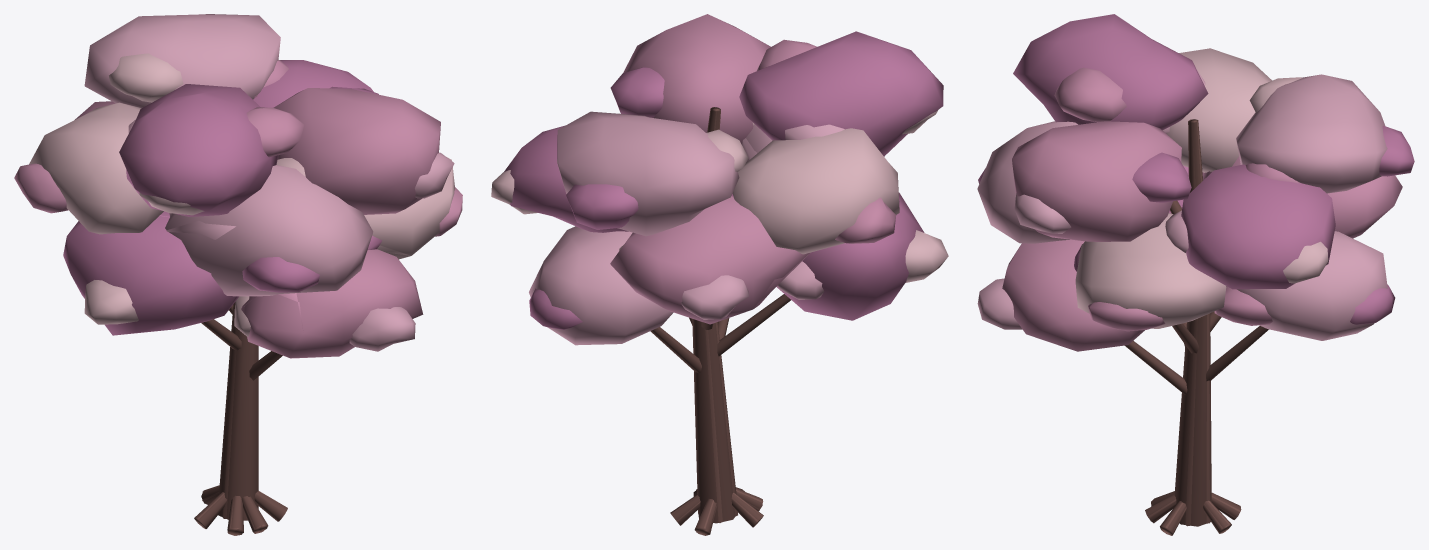
File: cherry.glb
3 views of the same model, side by side, from view 1: azimuth 30°, elevation 25°; view 2: azimuth 150°, elevation 25°; view 3: azimuth 270°, elevation 25° (orthographic). The views are drawn at different scales.
Parts seen in each view (by area): view 1: near, far; view 2: near, far; view 3: near, far.
Part boxes in pixels (box(x1,y1,x2,y2)): near: box(14, 14, 462, 535); far: box(159, 215, 409, 535); near: box(491, 14, 948, 535); far: box(671, 107, 809, 535); near: box(977, 14, 1414, 535); far: box(1148, 119, 1240, 535).
Size of the model in its own units: 8.64 by 10.33 by 8.98.
